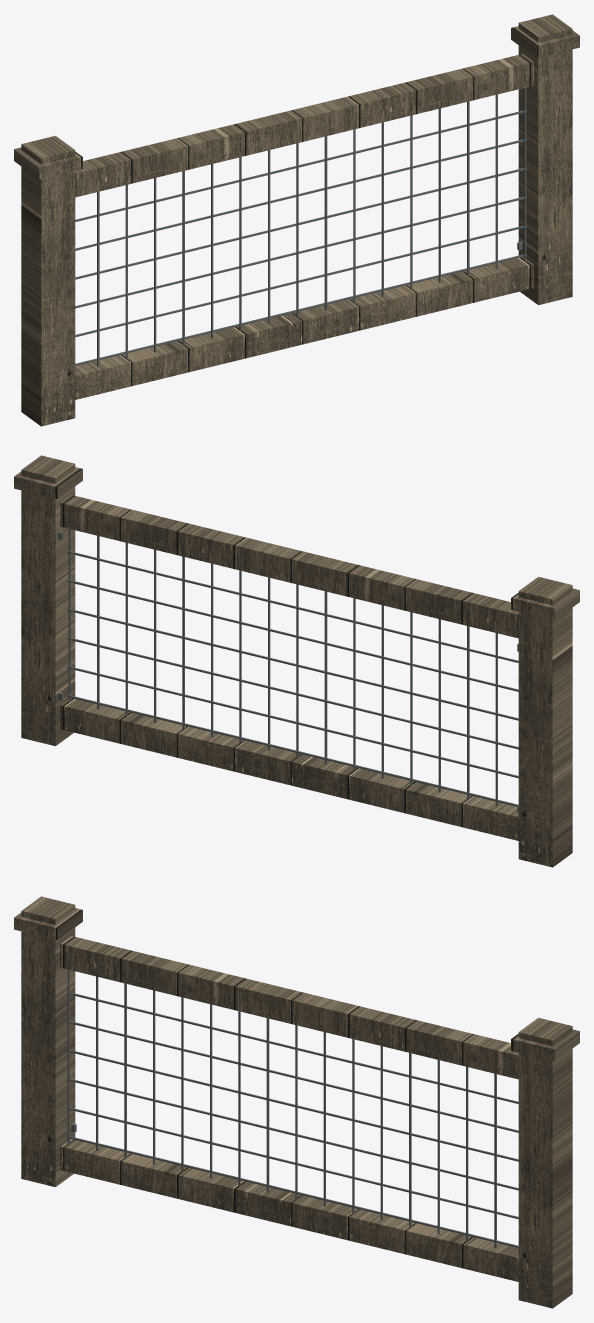
Rendered from fence-wire.glb.
The picture shows the model from 3 angles, top to bottom: view 1: azimuth 30°, elevation 25°; view 2: azimuth 150°, elevation 25°; view 3: azimuth 330°, elevation 25°; orthographic projection.
Visible parts, largest first — view 1: wire fence; view 2: wire fence; view 3: wire fence.
Boxes of the visible parts, x1,y1,x2,y2 form: wire fence: (14, 14, 579, 426); wire fence: (14, 455, 579, 867); wire fence: (14, 896, 579, 1308).
Bounding box in the file's own units: 2.85 × 1.35 × 0.23.
2 materials, 1 textured.
